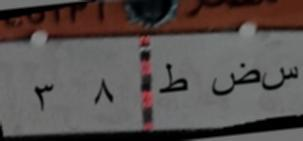3: (31, 80, 57, 114)
8: (90, 76, 116, 108)
Taa: (157, 59, 190, 100)
daad: (210, 62, 261, 97)
seen: (262, 65, 301, 93)
